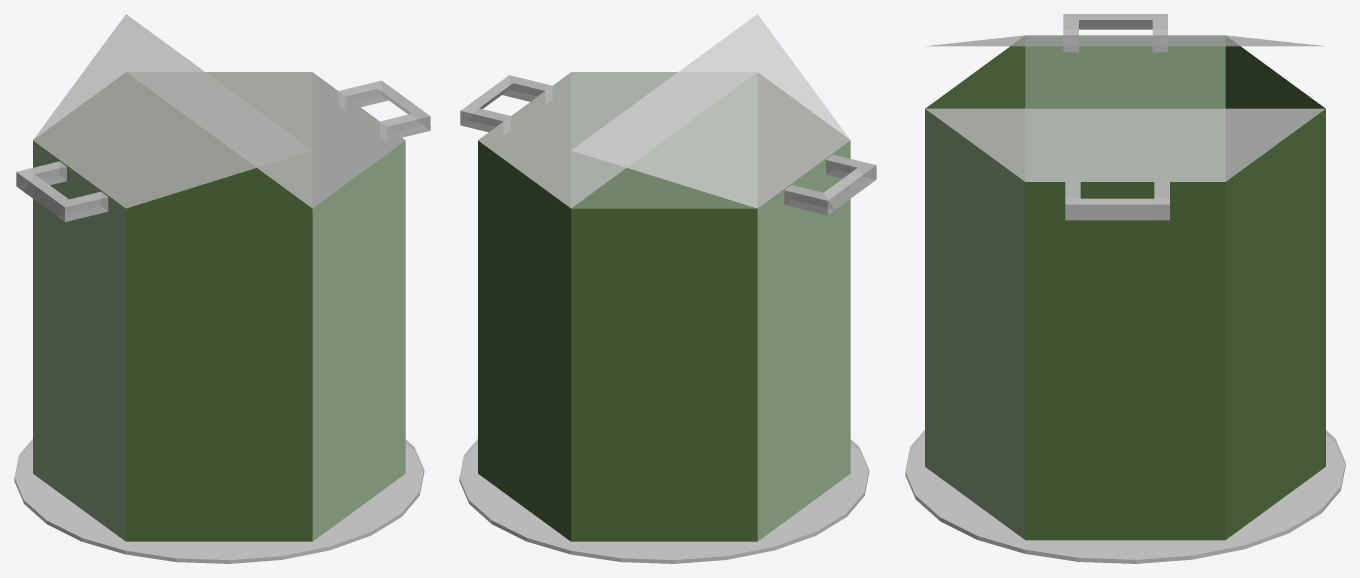
3 views of the same model, side by side, from view 1: azimuth 30°, elevation 25°; view 2: azimuth 150°, elevation 25°; view 3: azimuth 270°, elevation 25° (orthographic). The views are drawn at different scales.
Visible parts, largest first — view 1: Node3, Node4, Node2, Node59, Node58, Node6, Node16, Node33, Node7, Node5, Node23, Node20 (+6 smaller); view 2: Node7, Node6, Node2, Node59, Node58, Node4, Node16, Node33, Node3, Node5, Node23, Node20 (+6 smaller); view 3: Node5, Node4, Node6, Node2, Node58, Node16, Node33, Node3, Node7, Node59, Node8, Node25 (+4 smaller).
Part boxes in pixels (<box>): Node3: <box>126,208,312,541</box>; Node4: <box>312,140,405,541</box>; Node2: <box>33,140,125,541</box>; Node59: <box>33,14,311,208</box>; Node58: <box>127,72,405,208</box>; Node6: <box>126,72,312,208</box>; Node16: <box>15,444,423,563</box>; Node33: <box>14,439,423,559</box>; Node7: <box>33,73,125,207</box>; Node5: <box>313,73,404,207</box>; Node23: <box>16,161,107,207</box>; Node20: <box>339,80,430,126</box>; Node7: <box>571,208,757,541</box>; Node6: <box>478,140,570,541</box>; Node2: <box>757,140,850,541</box>; Node59: <box>571,14,850,208</box>; Node58: <box>478,72,755,208</box>; Node4: <box>571,72,757,208</box>; Node16: <box>460,444,868,563</box>; Node33: <box>459,439,868,559</box>; Node3: <box>758,73,849,207</box>; Node5: <box>479,73,570,207</box>; Node23: <box>785,154,875,200</box>; Node20: <box>461,75,551,121</box>; Node5: <box>1025,182,1225,540</box>; Node4: <box>925,109,1025,539</box>; Node6: <box>1225,109,1325,539</box>; Node2: <box>1025,36,1225,181</box>; Node58: <box>925,108,1325,181</box>; Node16: <box>906,435,1344,563</box>; Node33: <box>905,430,1345,559</box>; Node3: <box>925,36,1025,180</box>; Node7: <box>1225,36,1325,180</box>; Node59: <box>926,35,1324,46</box>; Node8: <box>1065,204,1169,220</box>; Node25: <box>1064,14,1167,28</box>.
Size of the model in its own units: 11.87 by 12.24 by 11.5.
